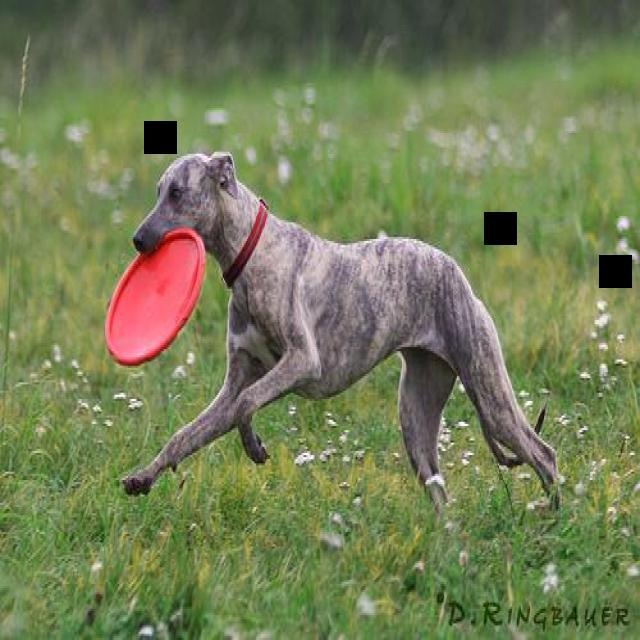adult_dog: (122, 149, 561, 529)
